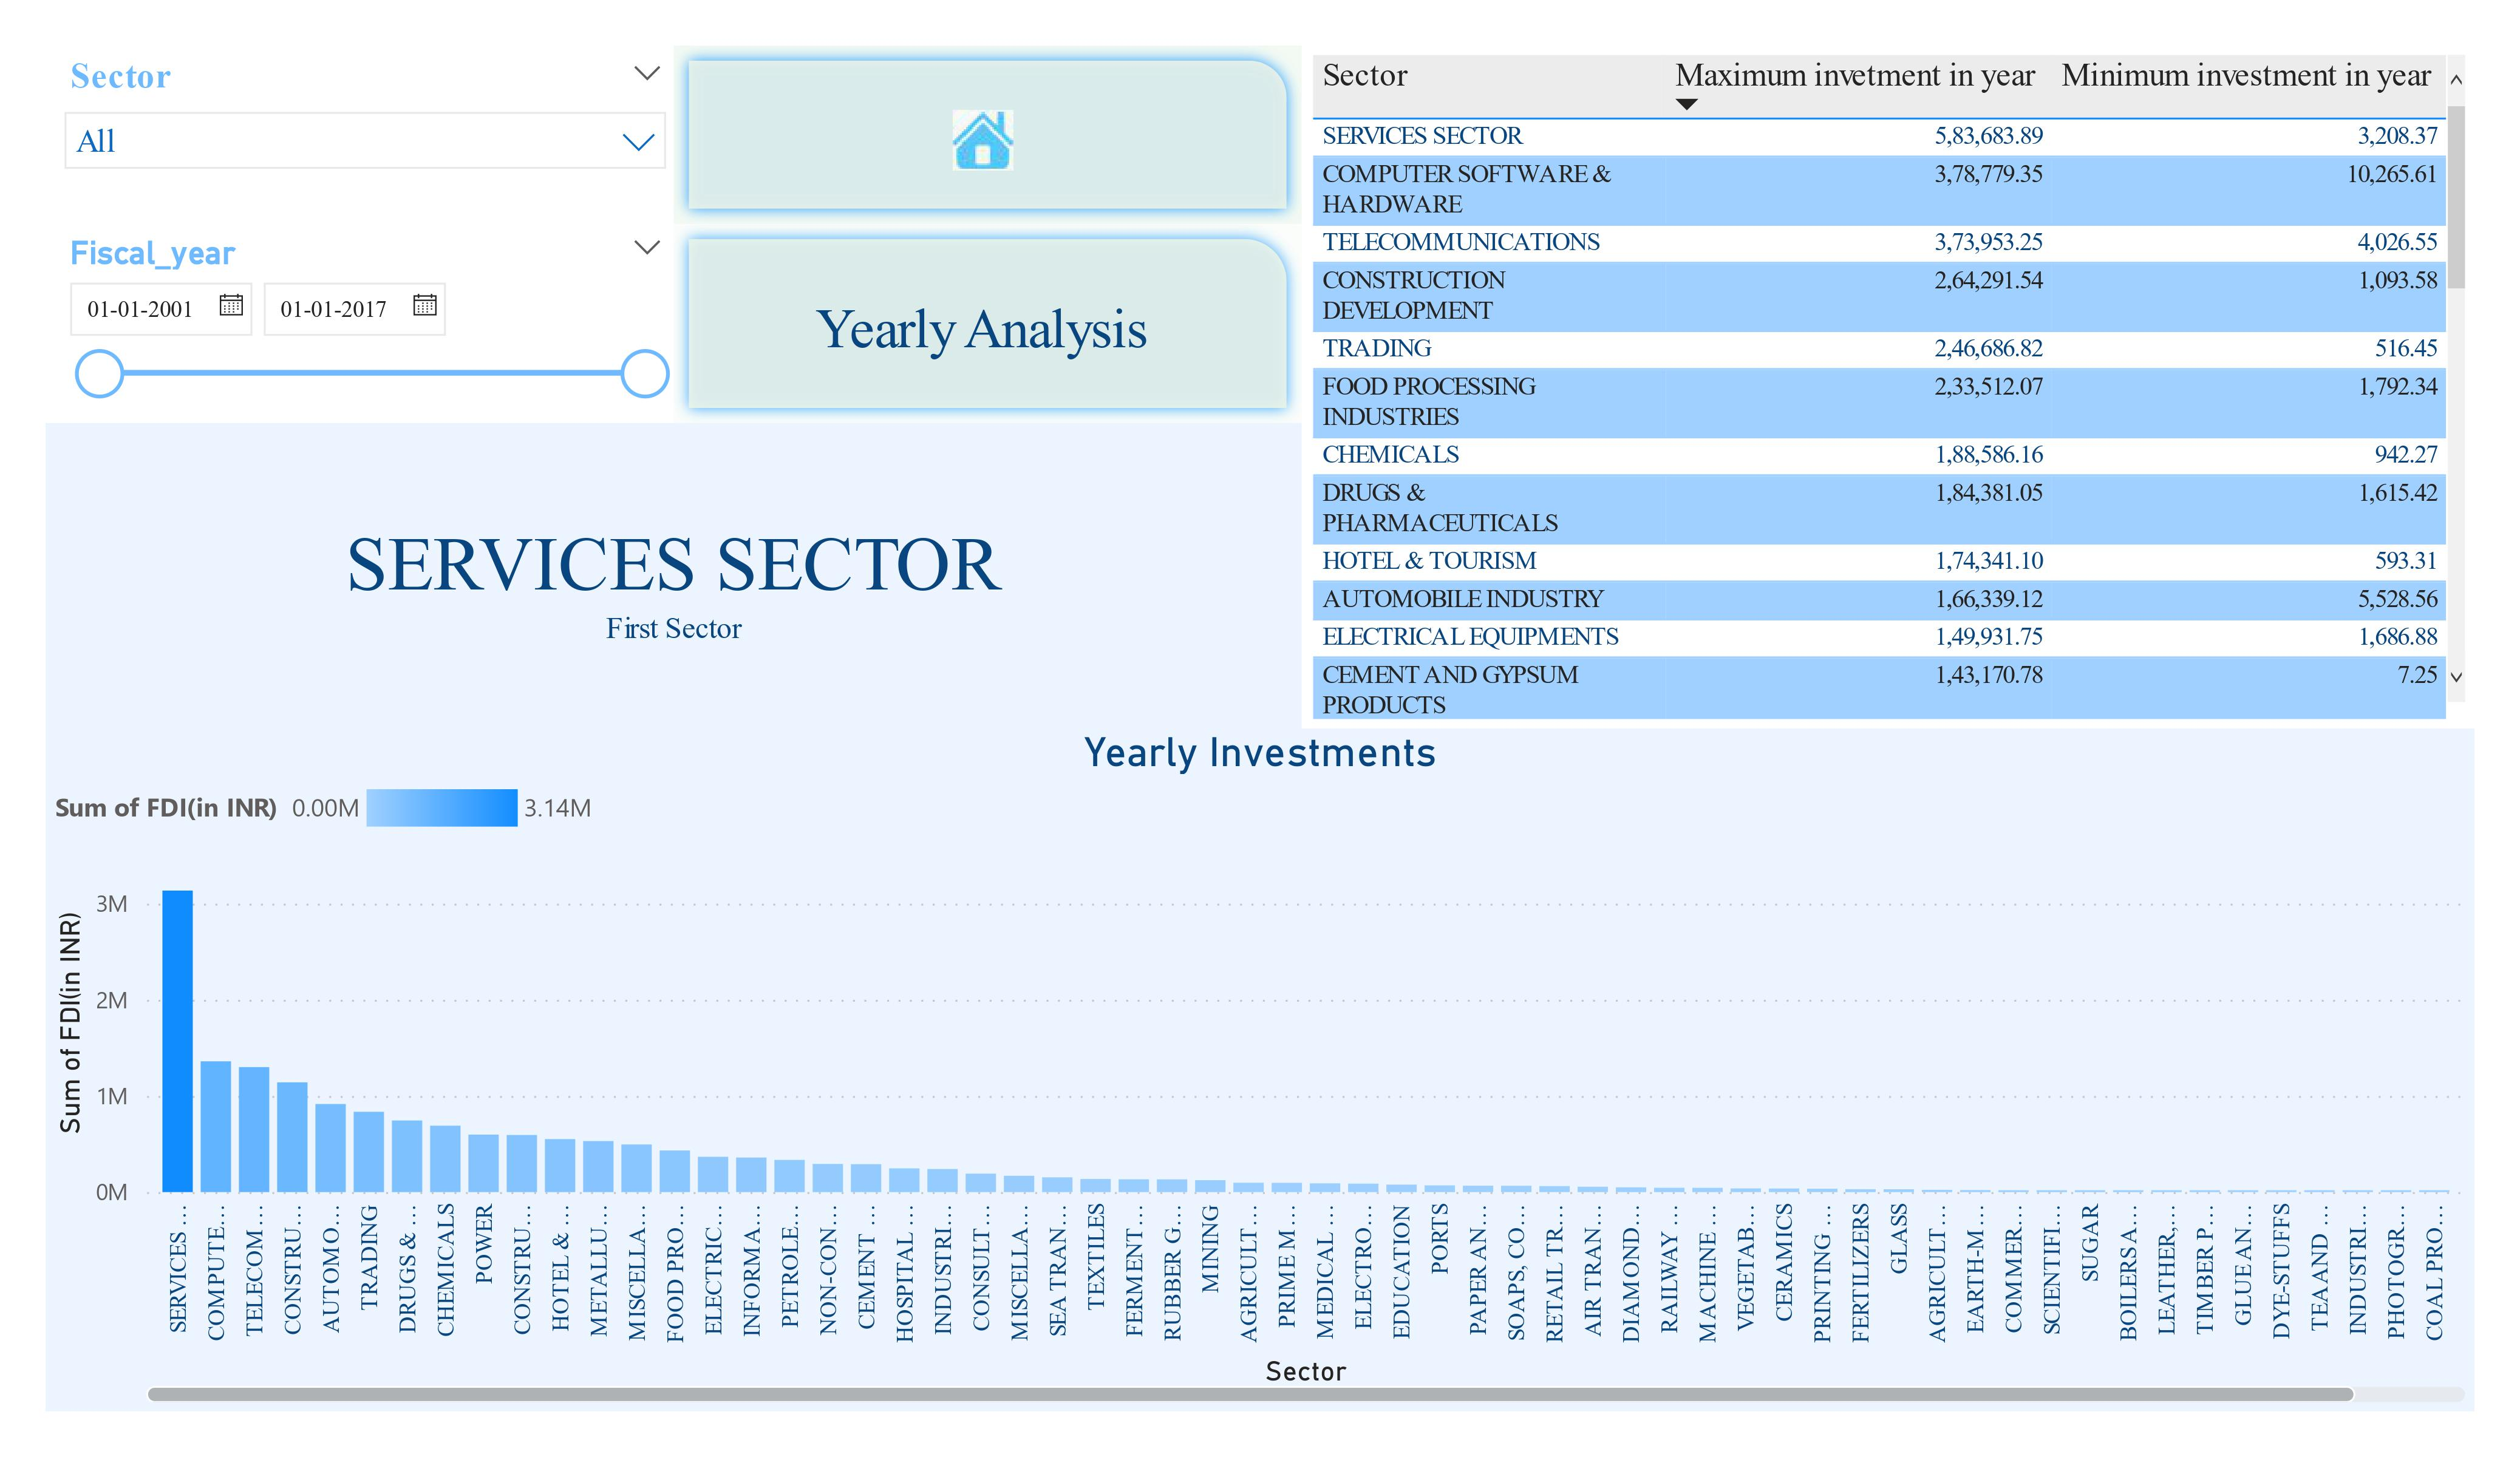

The dashboard page shown, as its layout file describes it:
{"tool":"powerbi","page":{"name":"Sector_analysis","canvas":[1280,720],"ordinal":2},"visuals":[{"type":"slicer","fields":{"Values":["Transformed_FDI_india (2).Sector"]},"box":[0,0,336.6,94.4],"z":0},{"type":"slicer","fields":{"Values":["Transformed_FDI_india (2).Fiscal_year"]},"box":[0,94.4,336.6,265.5],"z":1000},{"type":"clusteredColumnChart","title":"Yearly Investments","fields":{"Y":["Sum(Transformed_FDI_india (2).FDI(in INR))"],"Category":["Transformed_FDI_india (2).Sector"]},"box":[0,360.2,1279.6,360.2],"z":2000},{"type":"clusteredColumnChart","title":"Top 10 Invested sector","fields":{"Y":["Sum(Transformed_FDI_india (2).FDI(in INR))"],"Category":["Transformed_FDI_india (2).Sector"]},"box":[661.3,0,618.7,359.9],"z":3000},{"type":"card","fields":{"Values":["Min(Transformed_FDI_india (2).Sector)"]},"box":[0,199,661.9,161.3],"z":4000},{"type":"actionButton","box":[331,0,331,94.4],"z":5000},{"type":"actionButton","box":[331,94.4,331,104.4],"z":6000}]}

Visuals, with their boxes in screenshot pixels (x1, y1, x2, y2):
slicer - Transformed_FDI_india (2).Sector: bbox=[46, 46, 684, 225]
slicer - Transformed_FDI_india (2).Fiscal_year: bbox=[46, 225, 684, 728]
"Yearly Investments" clusteredColumnChart: bbox=[46, 729, 2474, 1411]
"Top 10 Invested sector" clusteredColumnChart: bbox=[1301, 46, 2474, 728]
card - Min(Transformed_FDI_india (2).Sector): bbox=[46, 423, 1301, 729]
actionButton: bbox=[673, 46, 1302, 225]
actionButton: bbox=[673, 225, 1302, 423]
